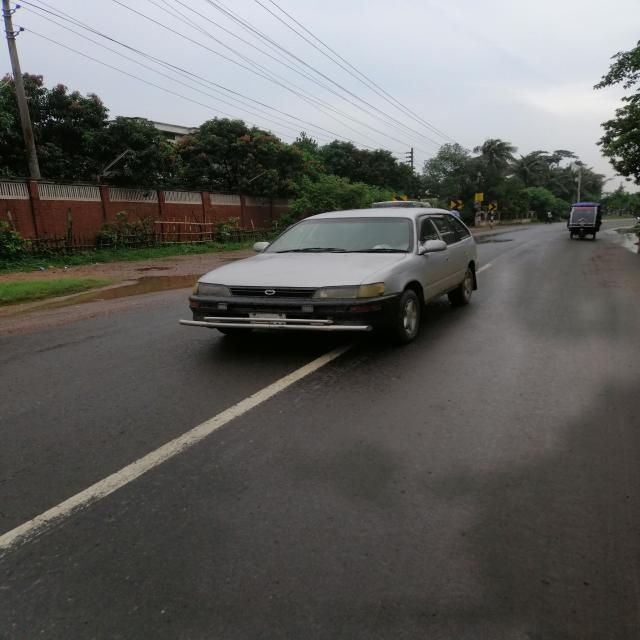Car: (175, 206, 485, 344)
